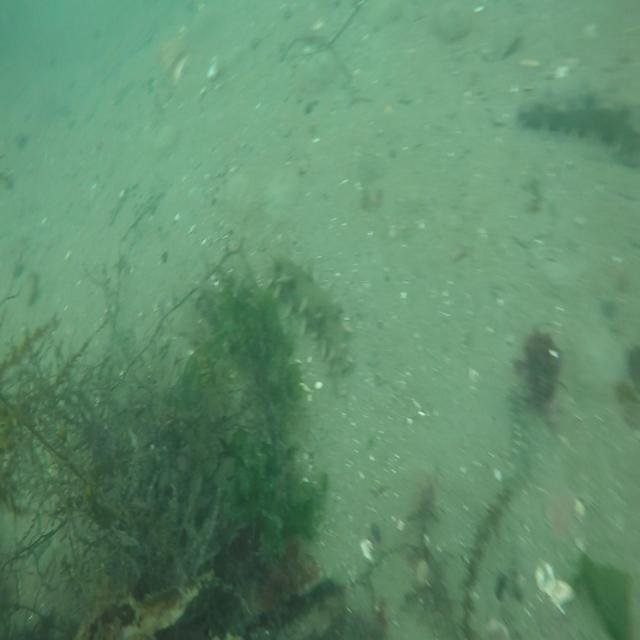holothurian: (265, 248, 355, 380), (515, 81, 640, 171)
scallop: (532, 552, 579, 616)
